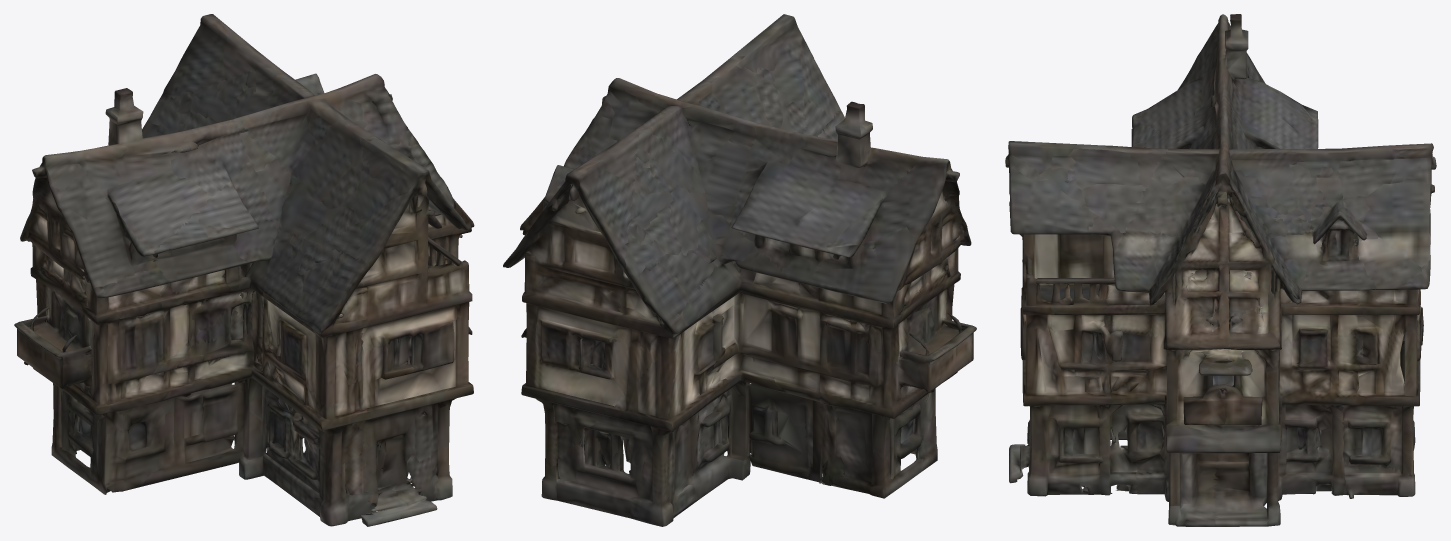
File: 建筑外观.glb
The picture shows the model from 3 angles, left to right: view 1: azimuth 30°, elevation 25°; view 2: azimuth 150°, elevation 25°; view 3: azimuth 270°, elevation 25°; orthographic projection. The views are drawn at different scales.
Parts seen in each view (by area): view 1: tripo_node_1521e433-c69e-4b66-aac4-409809ca5048; view 2: tripo_node_1521e433-c69e-4b66-aac4-409809ca5048; view 3: tripo_node_1521e433-c69e-4b66-aac4-409809ca5048.
Boxes of the visible parts, x1=… form: tripo_node_1521e433-c69e-4b66-aac4-409809ca5048: x1=14, y1=14, x2=474, y2=526; tripo_node_1521e433-c69e-4b66-aac4-409809ca5048: x1=503, y1=14, x2=976, y2=526; tripo_node_1521e433-c69e-4b66-aac4-409809ca5048: x1=1005, y1=14, x2=1436, y2=526.
Size of the model in its own units: 0.9996 by 0.8735 by 0.9139.
Materials: 1 (1 with a texture image).
